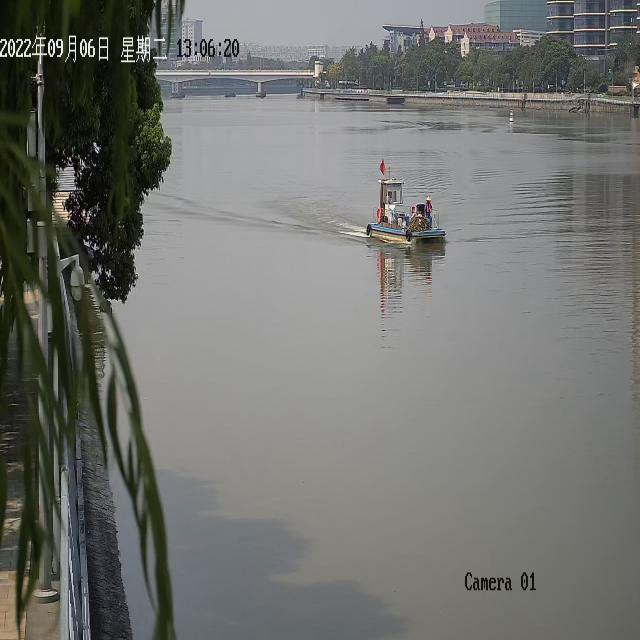ship: (365, 155, 445, 245), (224, 89, 235, 96)
